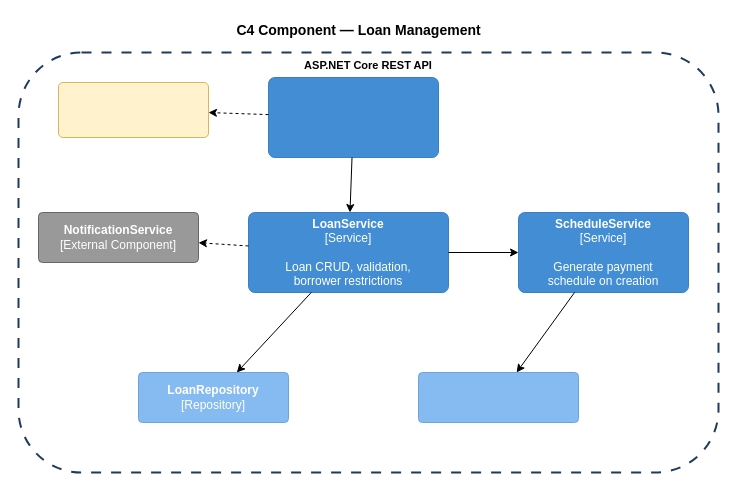
The diagram is 736 pixels wide and 490 high, and some of its shapes have lost their labels. The shapes that lost their labels are listed below. From the top down, each one's centre as x and y in pixels, then its label:
pixel 133 110: AuthMiddleware [Filter] Role-based access
pixel 353 117: LoanController [Controller] list, get, create, update loans
pixel 498 397: PaymentRepository [Repository]
